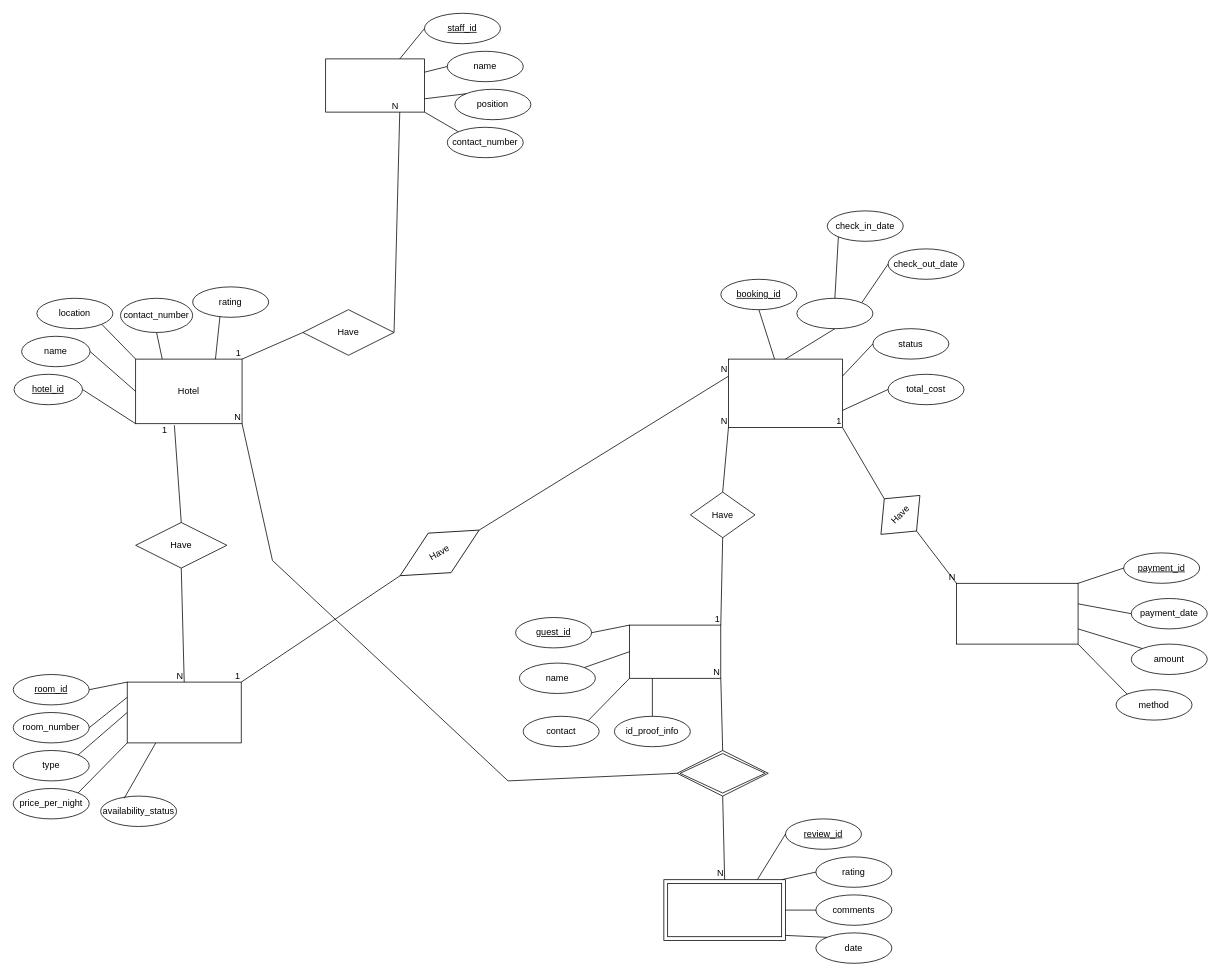
This 1221x977 diagram has some shape labels left out. Each missing label, with the centre of its shape:
"Booking" belongs at point (785, 393).
"booking_date" belongs at point (834, 313).
"Guest" belongs at point (675, 651).
"Payment" belongs at point (1017, 613).
"Review" belongs at point (724, 909).
"Room" belongs at point (183, 712).
"Staff" belongs at point (374, 85).
"Write" belongs at point (722, 773).
